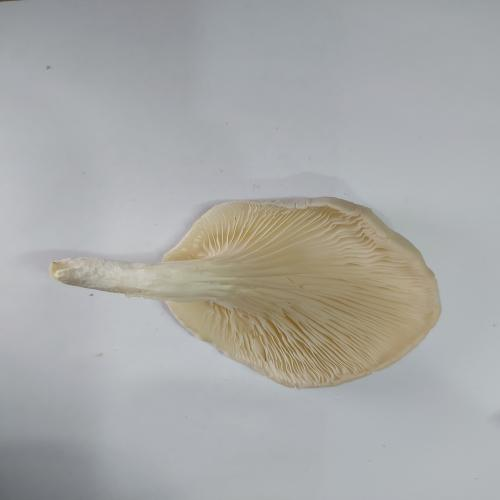Oyster Mushroom: (48, 195, 442, 390)
